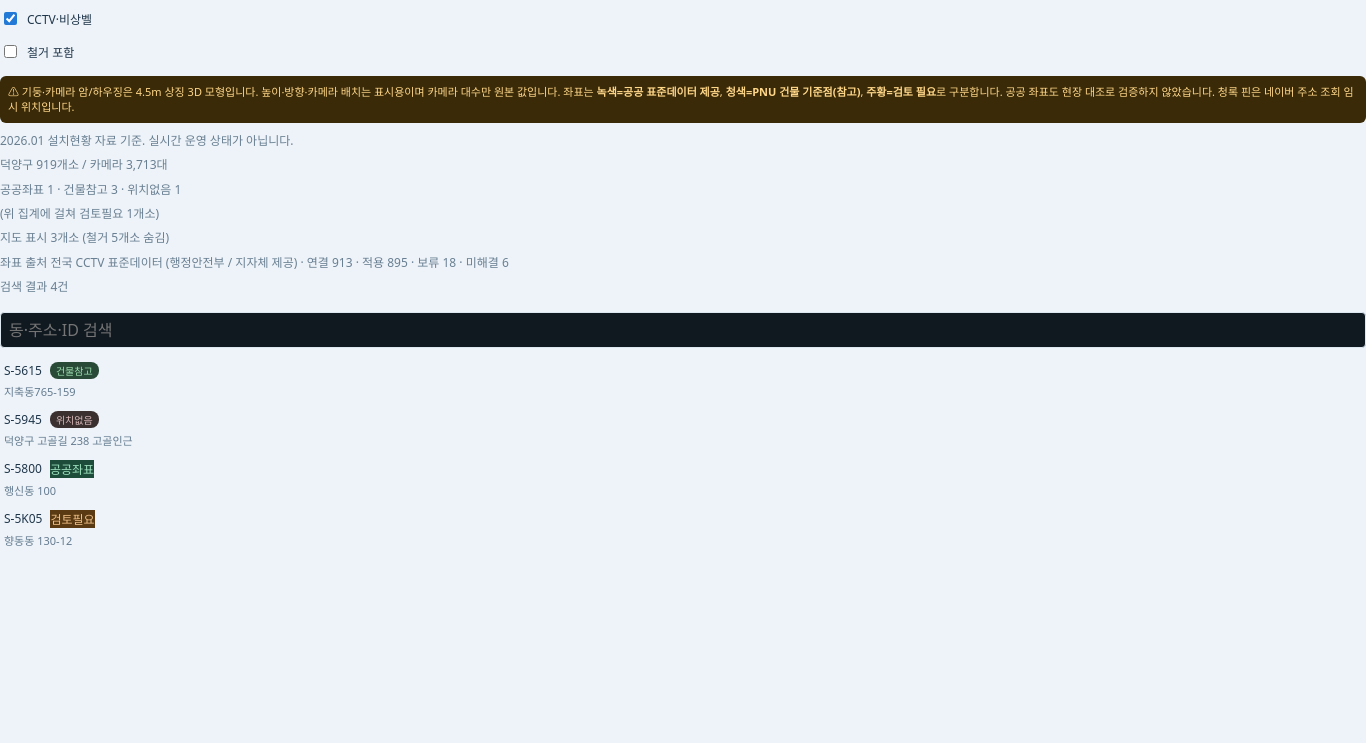
Test: FacilitiesPanel › names the public dataset as the source when its coordinate is applied
This screenshot has width=1366, height=743.
Click the button "S-5800 공공좌표 행신동 100": (23, 468) [0,454,1365,504]
(page scrolled)
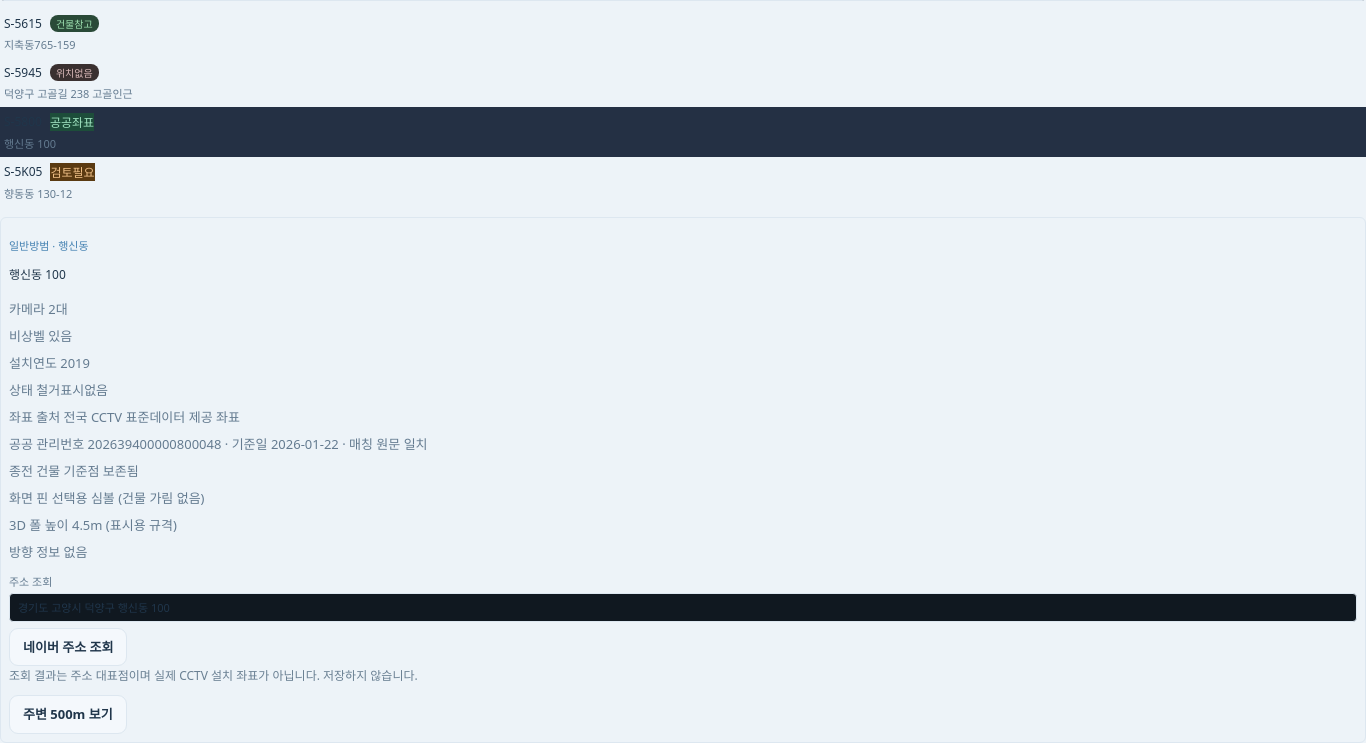
Expected: the list item with test id "cctv-position-source" reads "좌표 출처 전국 CCTV 표준데이터 제공 좌표", [9,408,240,426]
Expected: the element with test id "cctv-detail" shows "공공 관리번호 202639400000800048"
Expected: the element with test id "cctv-detail" shows "기준일 2026-01-22"
